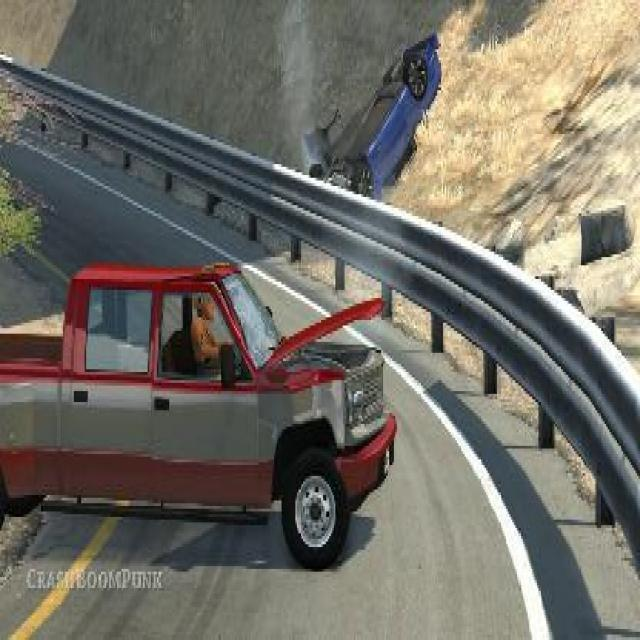accident: (297, 22, 443, 197)
